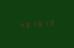eight: (23, 20, 28, 28), (36, 20, 41, 27), (48, 19, 53, 26)
four: (17, 21, 22, 28)
one: (30, 20, 35, 28), (42, 19, 47, 27)
